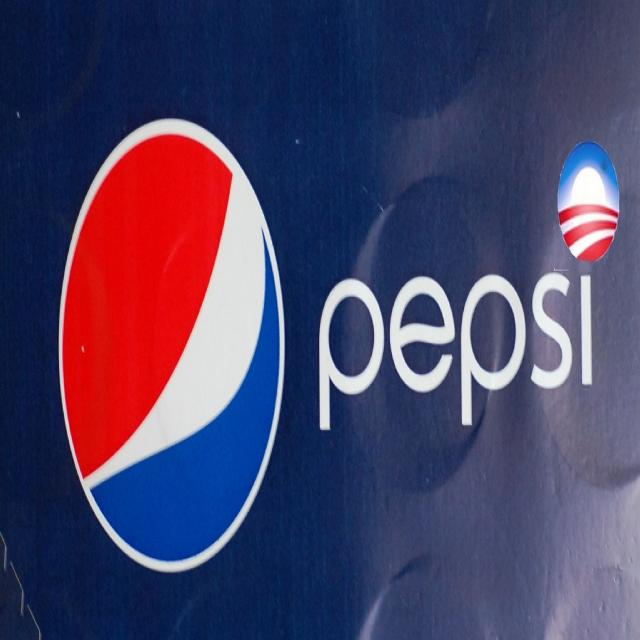pepsi: (54, 117, 290, 575)
